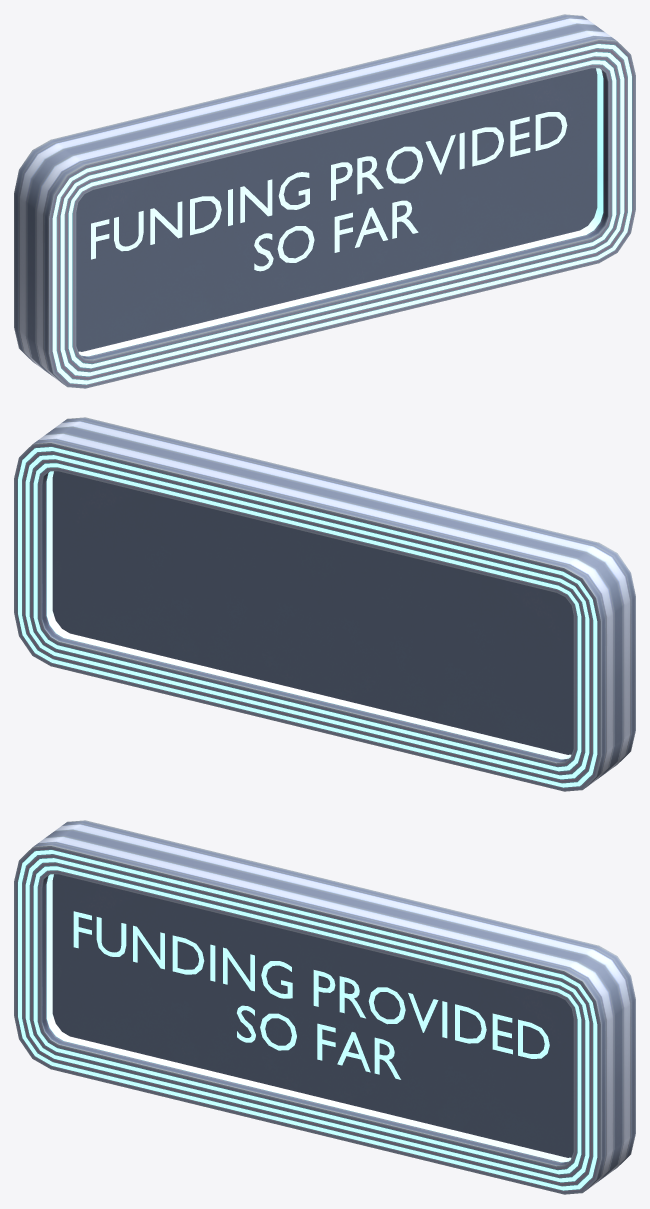
File: obj_funding.gltf
3 renders of one model, top to bottom at view 1: azimuth 30°, elevation 25°; view 2: azimuth 150°, elevation 25°; view 3: azimuth 330°, elevation 25°, orthographic.
Visible parts, largest first — view 1: obj_funding; view 2: obj_funding; view 3: obj_funding.
Part boxes in pixels (bbox=[...]): obj_funding: bbox=[14, 14, 635, 388]; obj_funding: bbox=[14, 417, 635, 791]; obj_funding: bbox=[14, 820, 635, 1194].
Size of what is drawn, in the model's own units: 4.27 by 1.55 by 0.439.
Materials: 2 (1 with a texture image).
